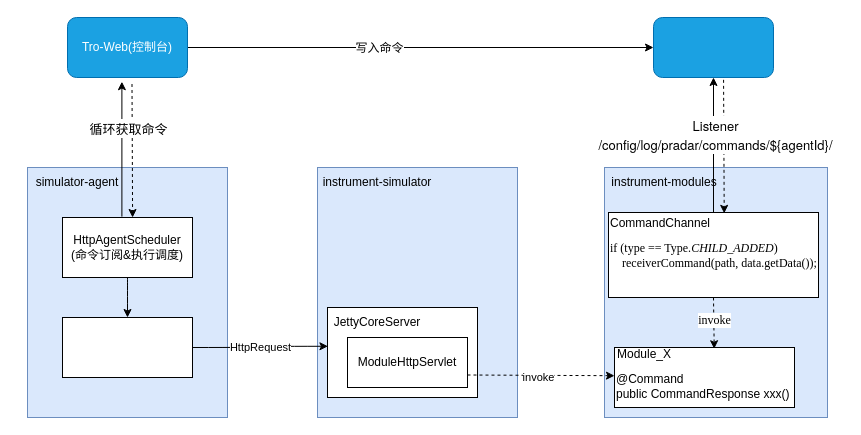
The diagram is 861 pixels wide and 435 high, and some of its shapes have lost their labels. Here are the shapes that lost their labels. From the top down, the centre of each, then its label:
At point (713, 47): "Zookeeper".
At point (127, 347): "AgentLauncher (发送命令)".
